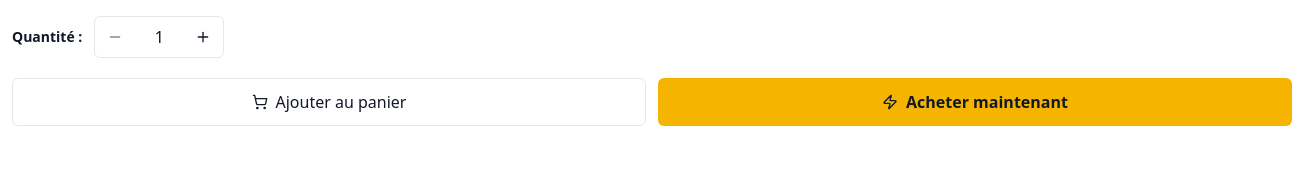
Scenario: AddToCart component › affiche le prix total quand quantité > 1
This screenshot has width=1304, height=175.
Click the button named "Augmenter la quantité".
click(203, 37)  # box [183,21,223,53]
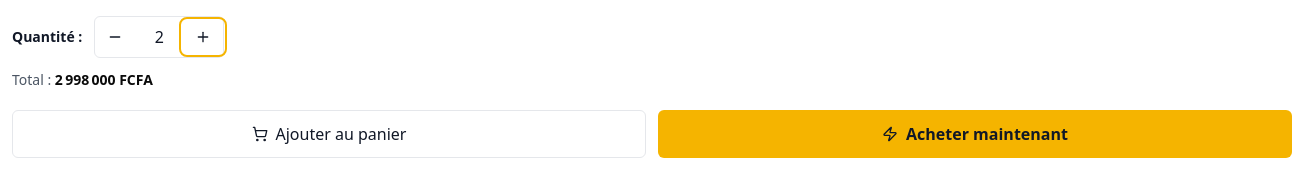
Result: the text "Total : 2 998 000 FCFA" is shown at [12,70,153,89]
